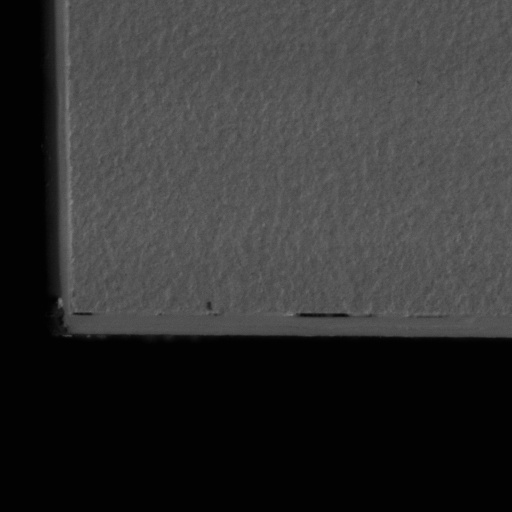jiaofeng: (290, 307, 354, 331)
